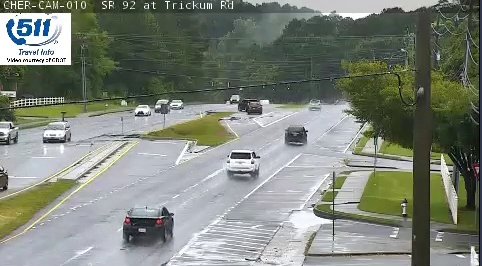car: (123, 205, 174, 235), (227, 150, 260, 174), (284, 125, 307, 145)
